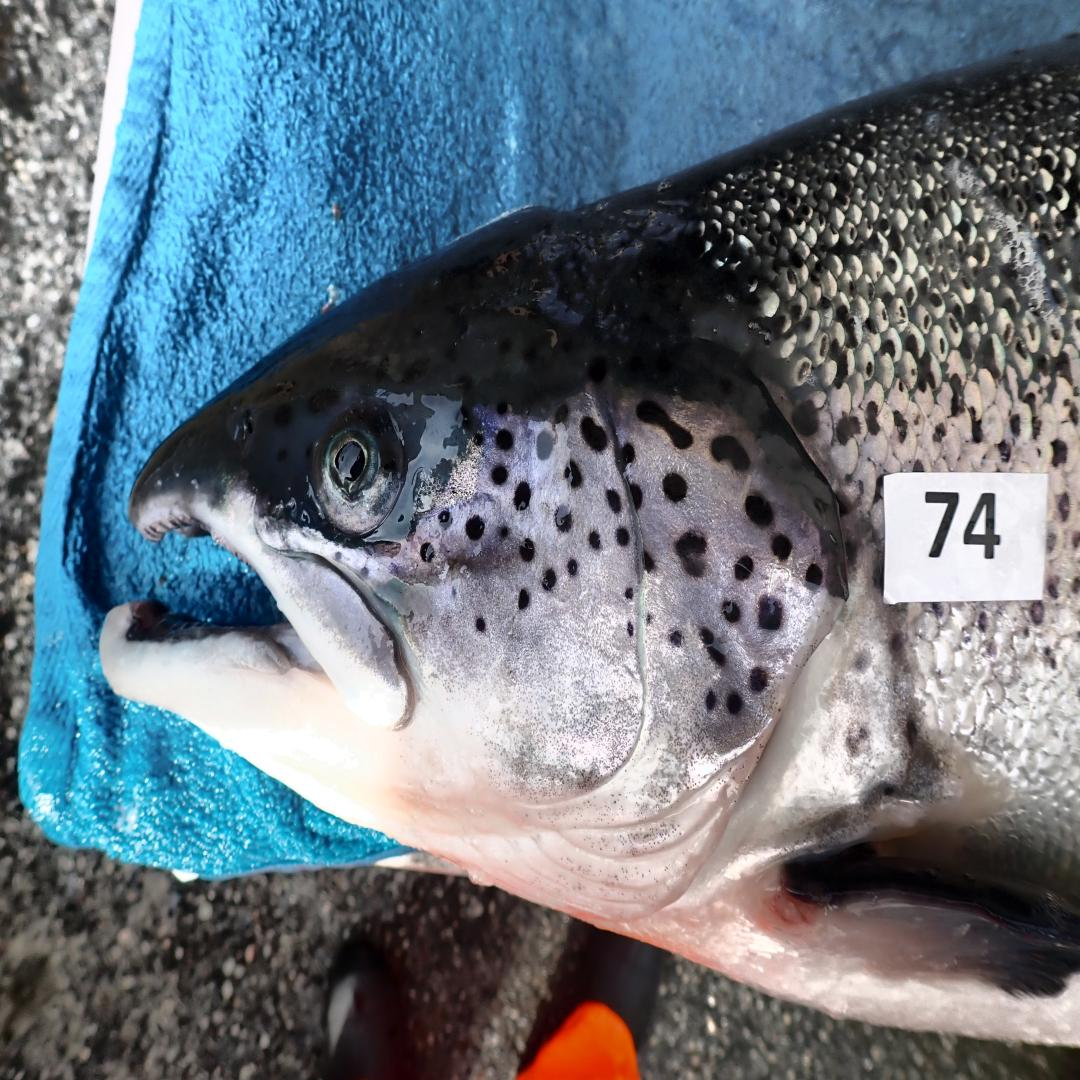spot: (637, 399, 694, 450), (675, 532, 707, 578), (711, 436, 749, 470), (699, 627, 726, 667), (580, 416, 608, 453), (757, 596, 783, 633), (745, 494, 772, 526), (662, 472, 688, 503), (536, 430, 555, 461), (734, 554, 754, 581), (805, 562, 823, 592), (555, 503, 573, 532), (514, 481, 532, 510), (772, 534, 792, 560), (749, 666, 768, 693), (721, 599, 740, 624), (466, 515, 485, 540), (565, 461, 582, 488), (605, 489, 621, 515), (519, 537, 535, 562), (495, 428, 513, 450), (726, 692, 742, 715), (542, 568, 557, 592), (419, 541, 435, 562), (491, 467, 508, 485), (631, 484, 643, 509), (616, 526, 631, 546), (555, 404, 569, 424), (588, 529, 601, 550), (643, 551, 655, 573), (622, 444, 635, 464), (669, 630, 684, 647), (438, 511, 453, 528), (518, 588, 529, 610), (705, 692, 717, 712), (814, 497, 828, 514), (567, 560, 578, 577), (625, 587, 634, 602), (497, 402, 507, 415), (476, 618, 485, 632), (627, 621, 634, 638), (474, 435, 484, 446), (500, 526, 508, 538), (646, 613, 653, 625)
